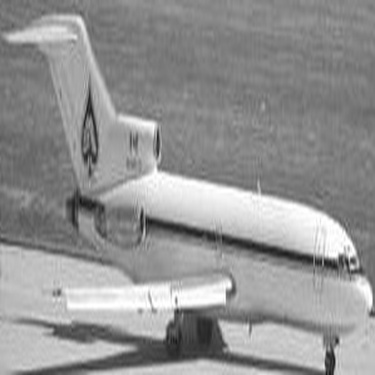airplane: (12, 13, 365, 361)
